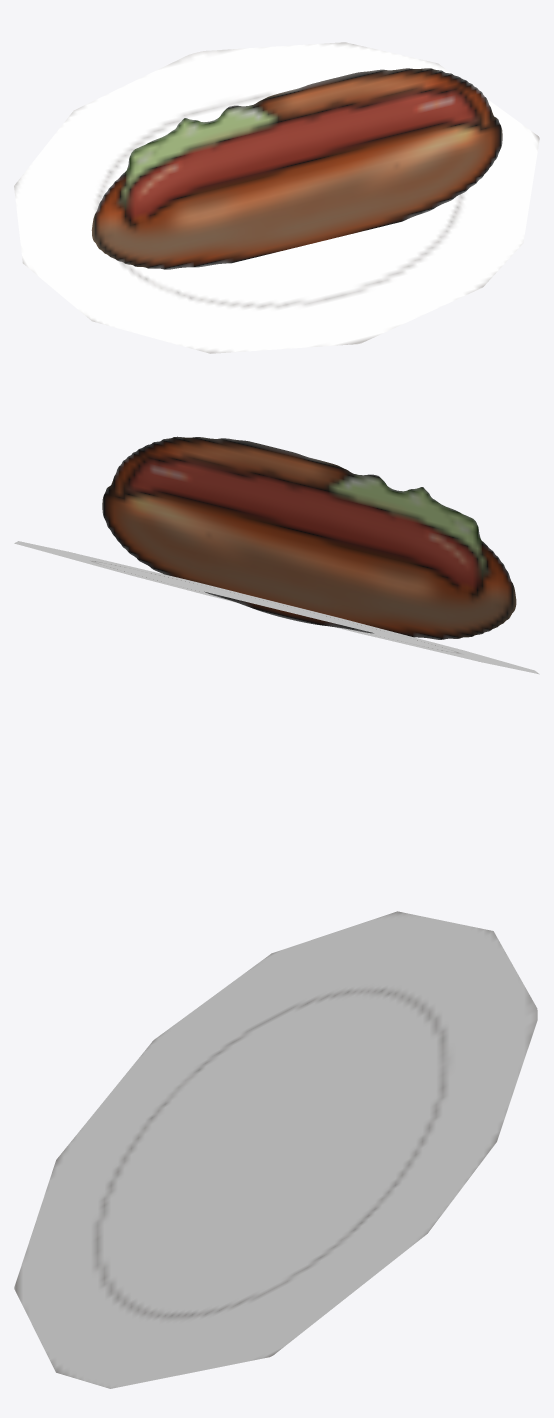
File: giftgoods052.fbx
3 renders of one model, top to bottom at view 1: azimuth 30°, elevation 25°; view 2: azimuth 150°, elevation 25°; view 3: azimuth 270°, elevation 25°, orthographic. The views are drawn at different scales.
Visible parts, largest first — view 1: giftgoods052; view 2: giftgoods052; view 3: giftgoods052.
Part boxes in pixels (bbox=[...]): giftgoods052: bbox=[14, 42, 539, 353]; giftgoods052: bbox=[14, 436, 539, 674]; giftgoods052: bbox=[14, 911, 537, 1388].
Size of the model in its own units: 0.4982 by 0.219 by 0.2745.
